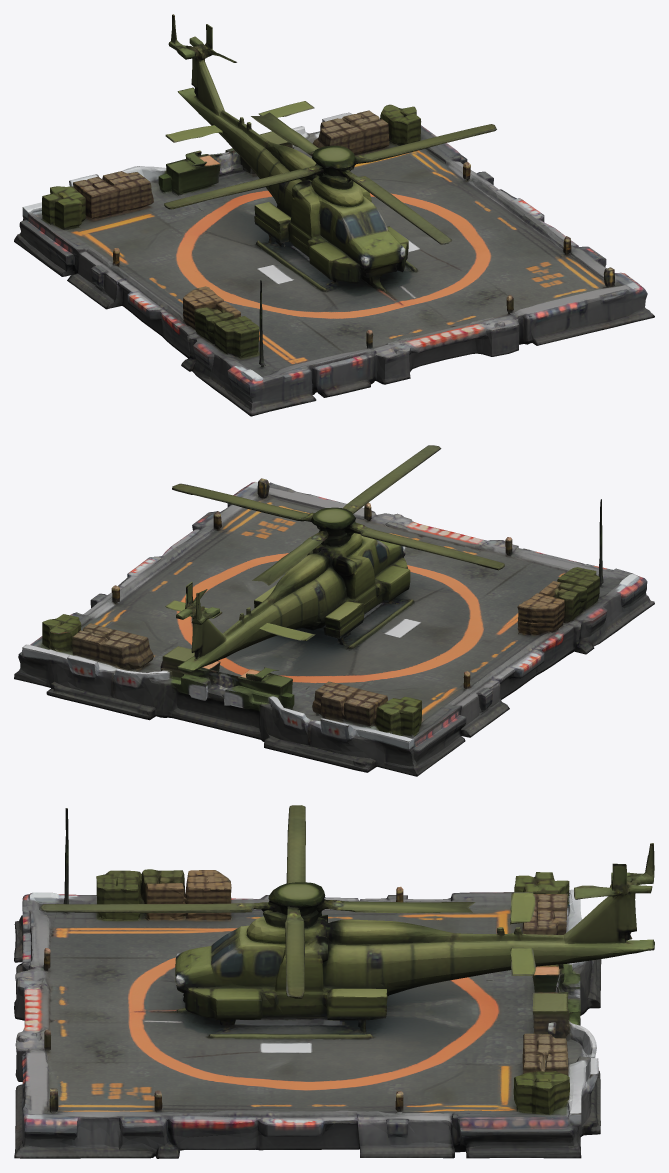
Rendered from helipad_def.glb.
3 views of the same model, one above another, from view 1: azimuth 30°, elevation 25°; view 2: azimuth 150°, elevation 25°; view 3: azimuth 270°, elevation 25° (orthographic). The views are drawn at different scales.
Visible parts, largest first — view 1: world; view 2: world; view 3: world.
Part boxes in pixels (x1,y1,x2,y2): world: (14,14,654,416); world: (14,445,654,776); world: (14,805,654,1158).
Size of the model in its own units: 0.8712 by 0.3324 by 1.
1 material, 1 textured.
